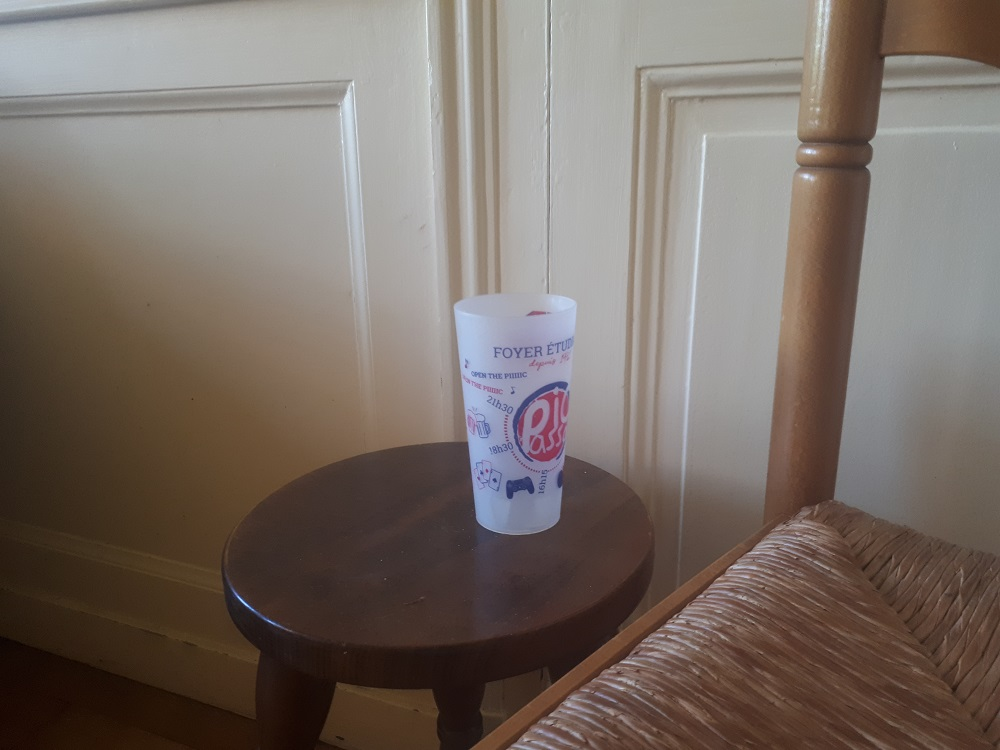ecocup: (452, 290, 579, 534)
